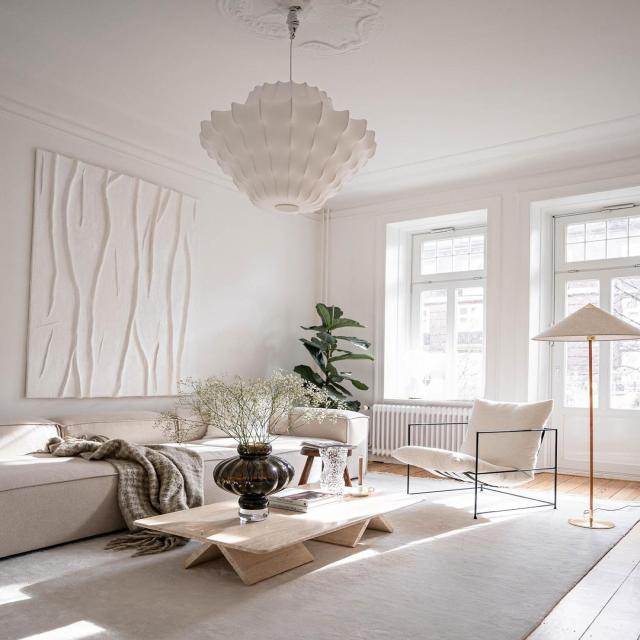white chair: (394, 392, 564, 517)
white desk: (134, 485, 401, 586)
white sofa: (2, 397, 376, 480)
